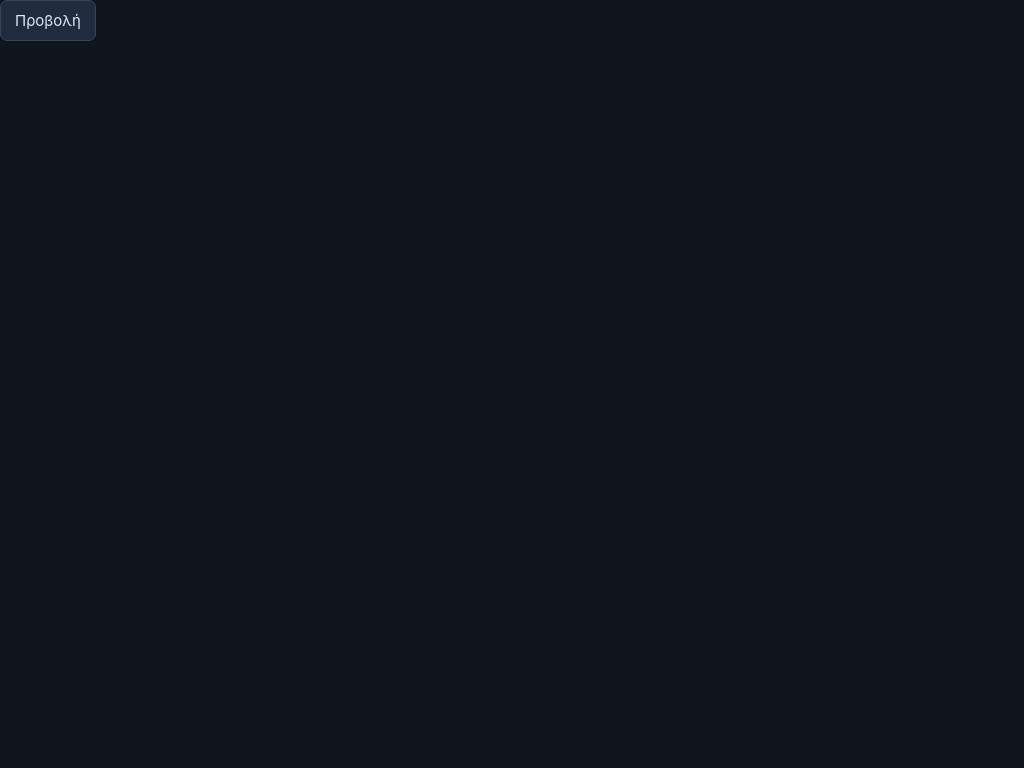
Test: safe file preview dialog › shows errors honestly and retries, dispatching the standard unauthorized event
Click the button "Προβολή" at (48, 20), box top-left (0, 0), bottom-right (96, 41)
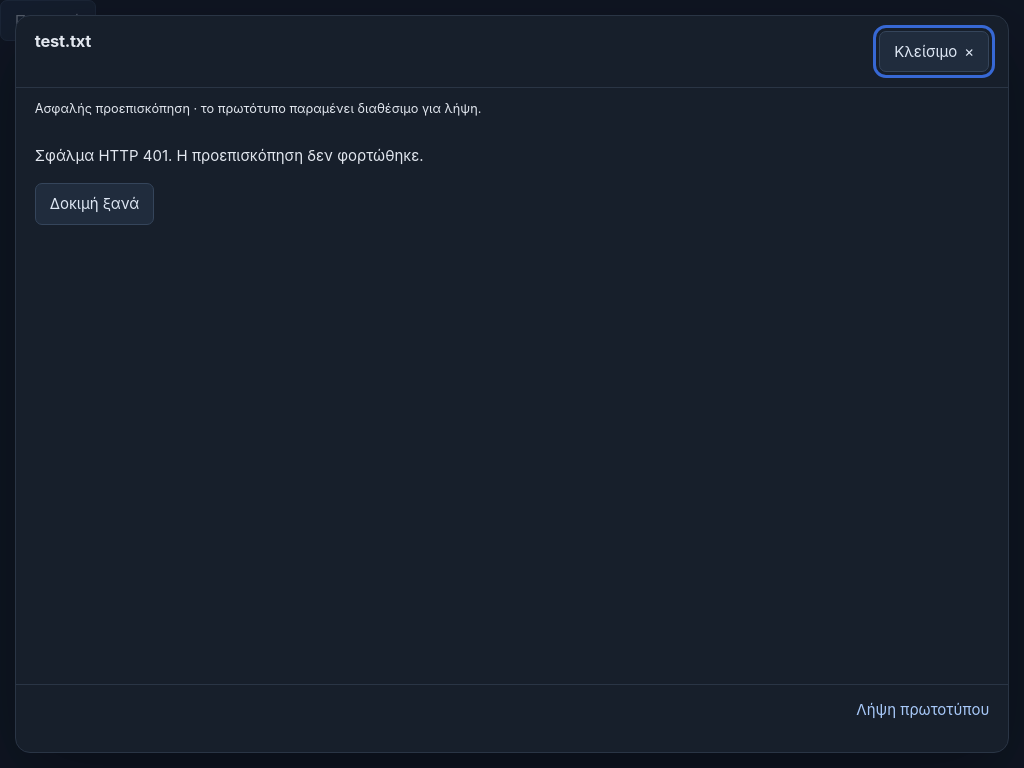
Check: the message shows "401", box top-left (35, 146), bottom-right (424, 165)
Click the button "Δοκιμή ξανά" at (95, 204), box top-left (35, 183), bottom-right (154, 225)
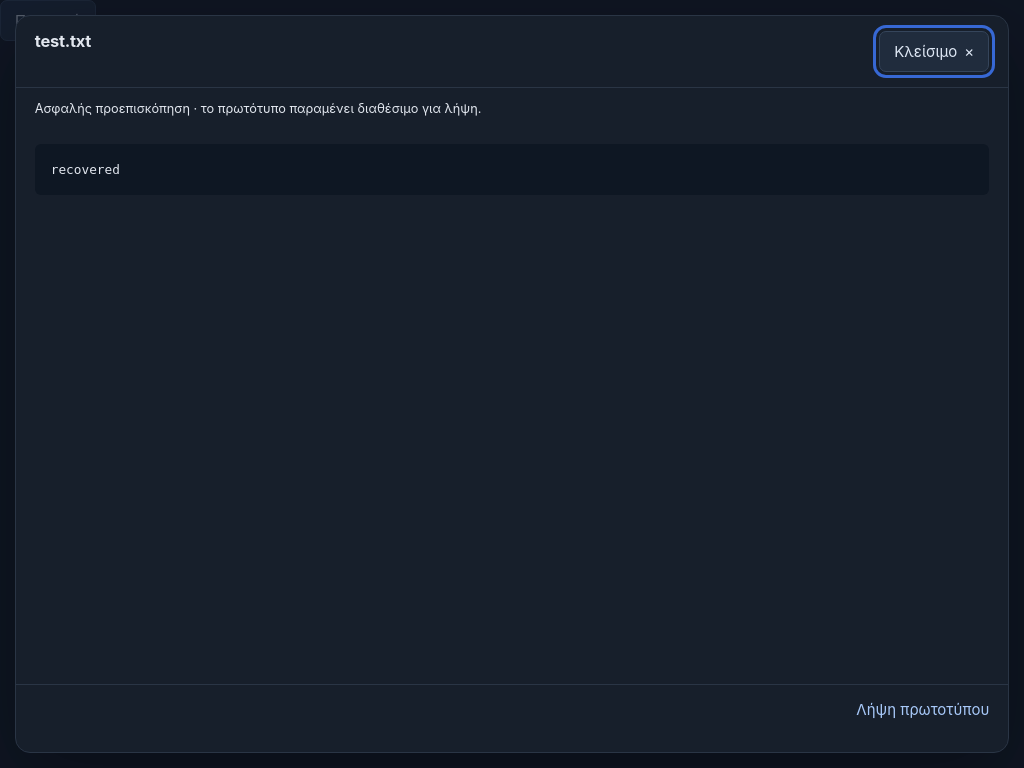
Check: the text "recovered" is shown, box top-left (35, 144), bottom-right (989, 195)
